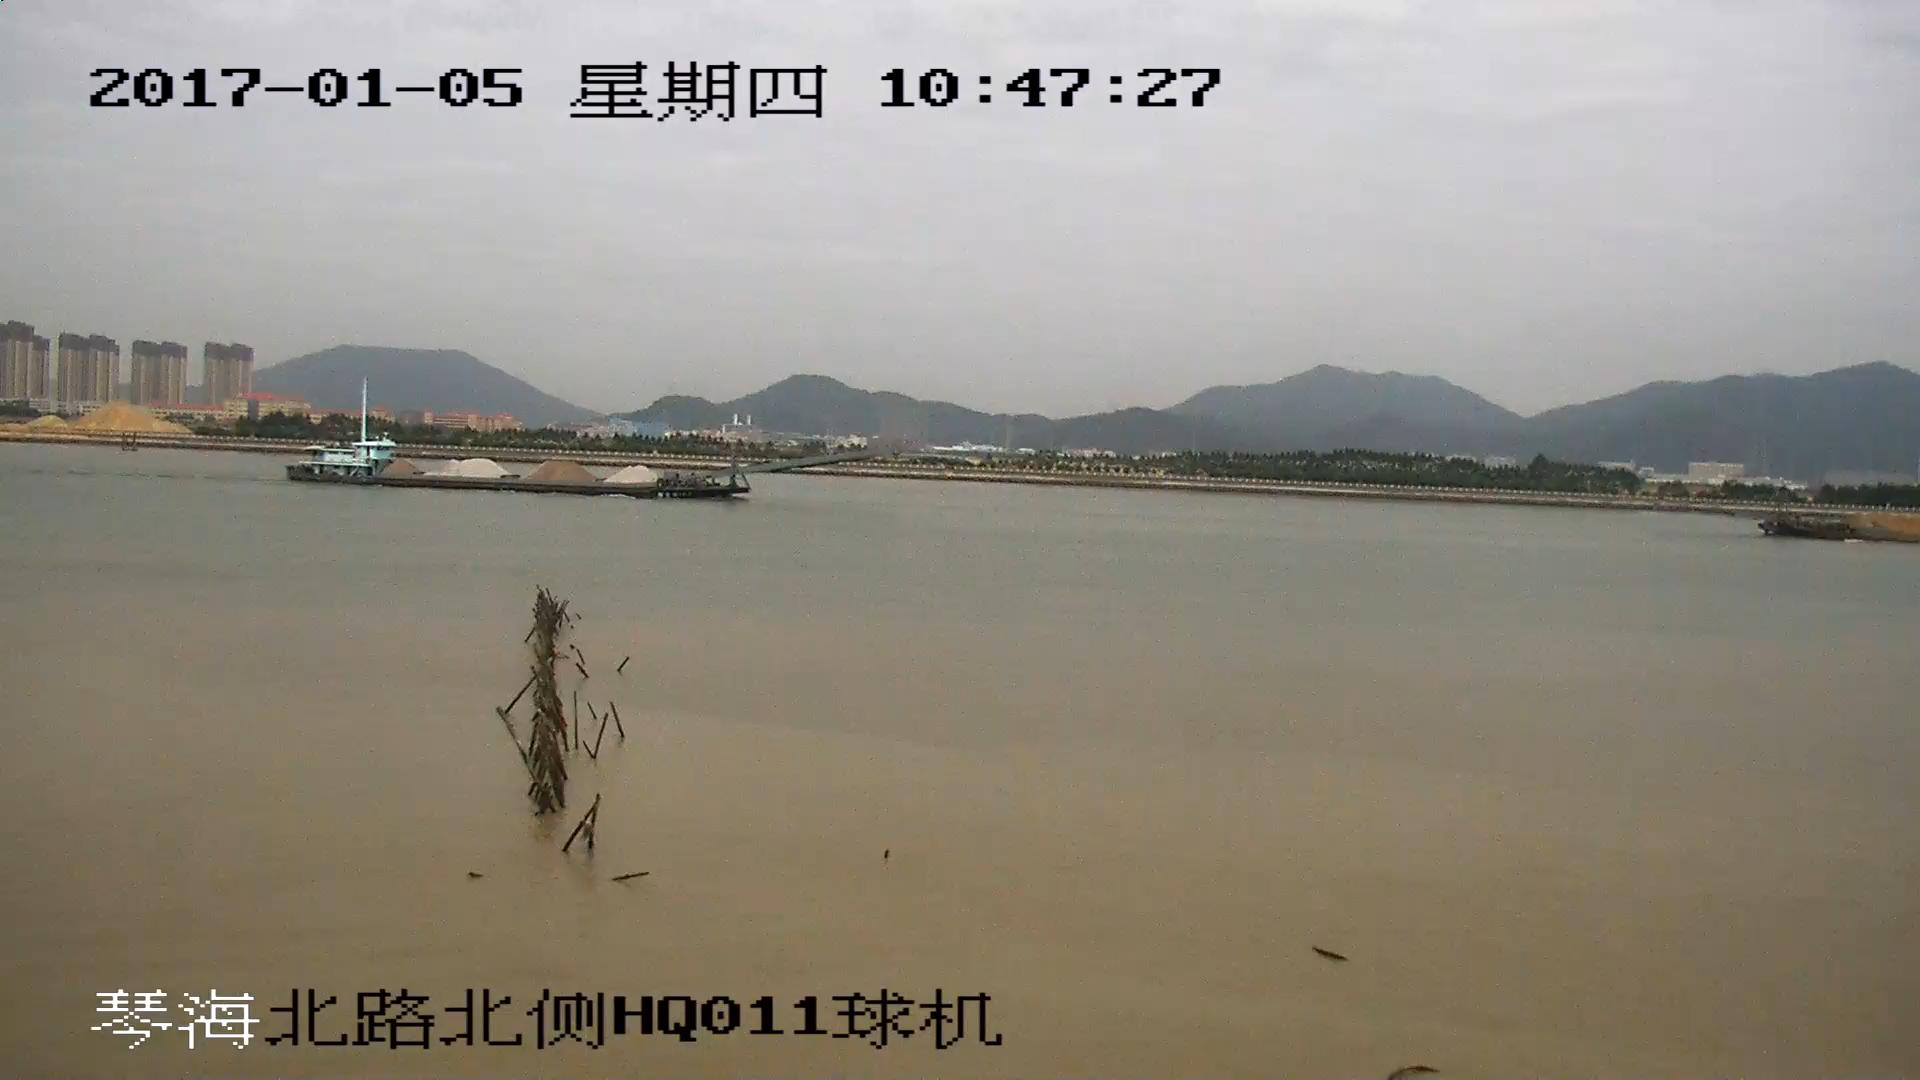ore carrier: (292, 386, 858, 502), (1760, 508, 1920, 543)
